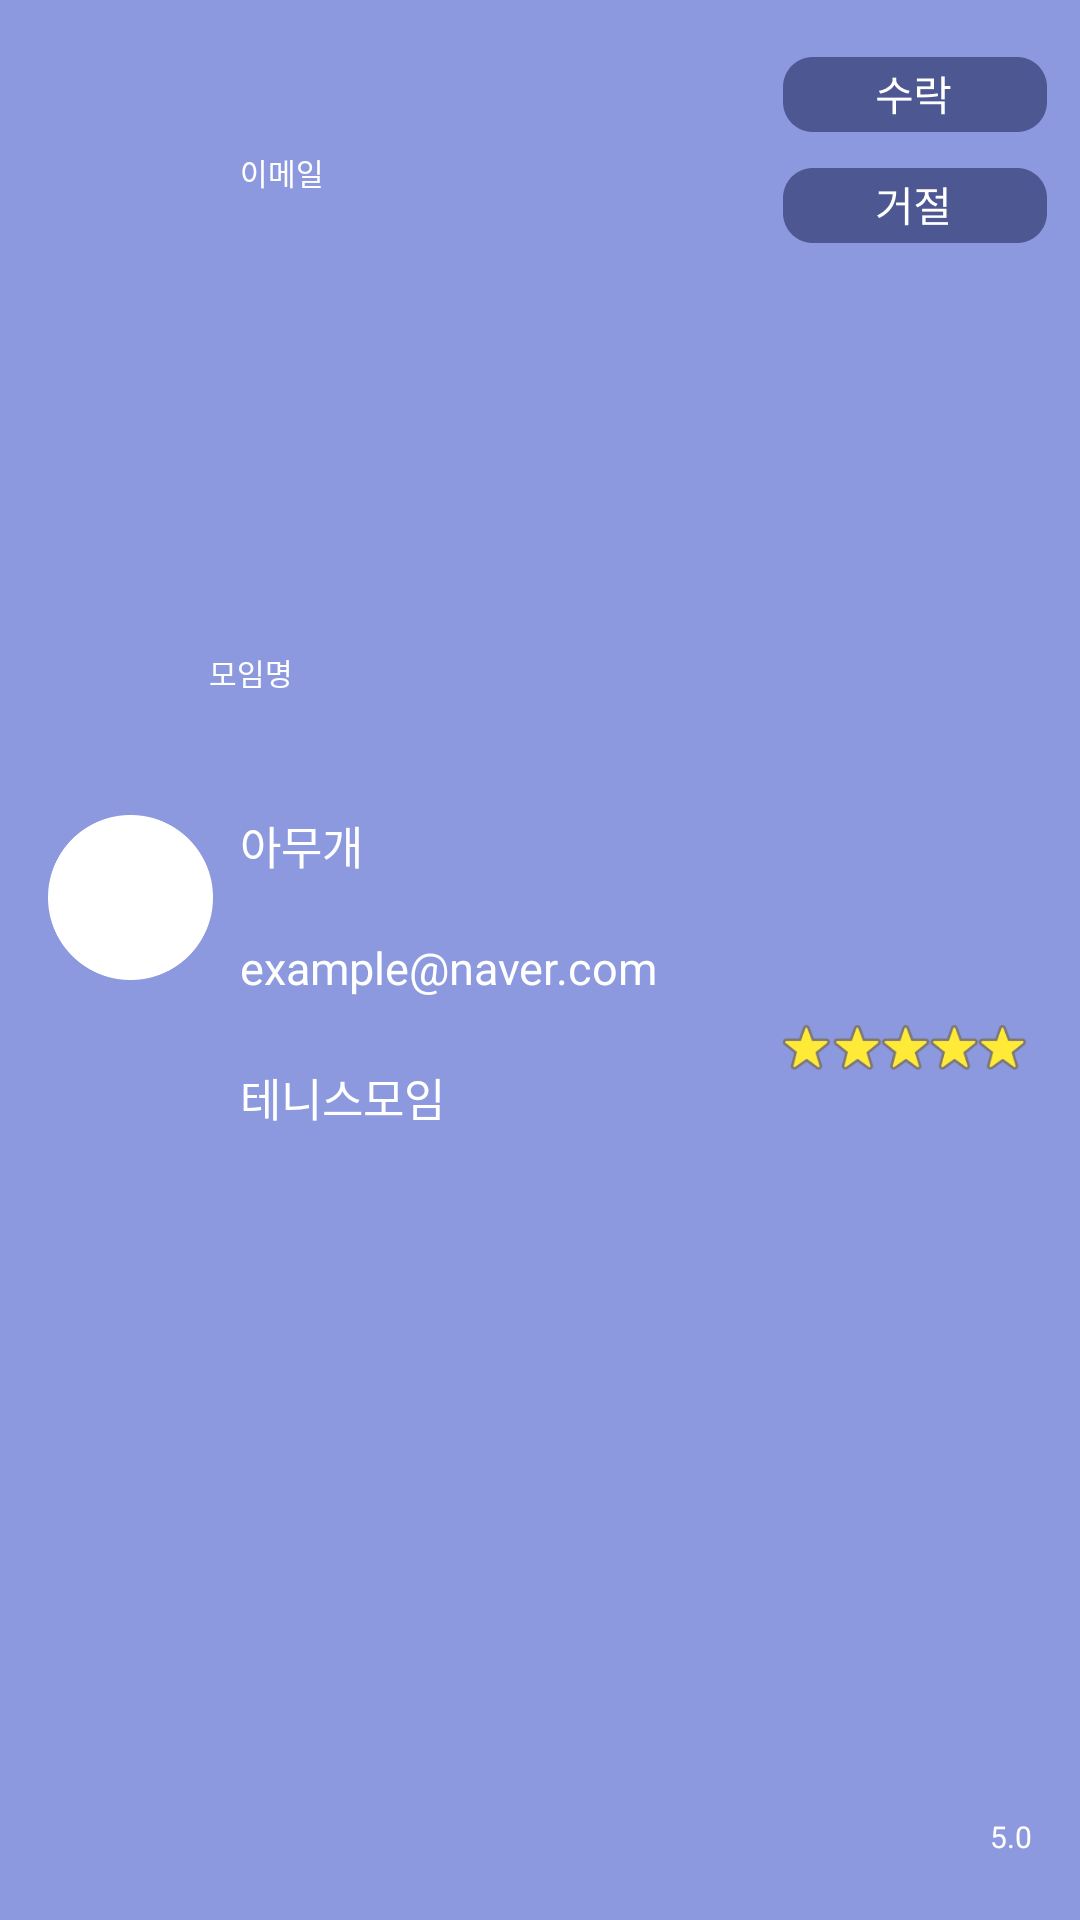

Named icons in this screenshot (1080 × 1920) and their bounding boxes, (x1, y1, x2, y2):
star: (783, 1025, 1026, 1070)
